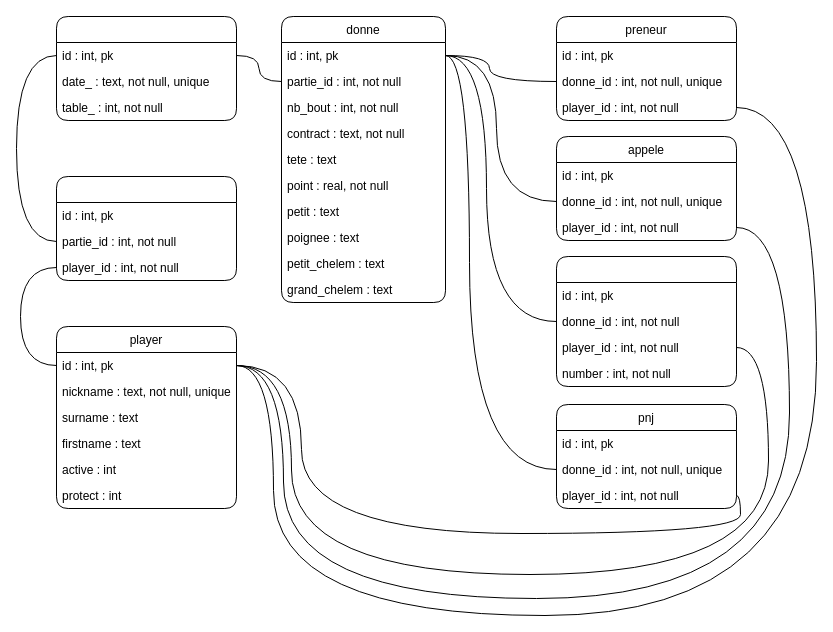
This 833x632 diagram has some shape labels left out. The box of each missing label's shape, as (x1, y1, x2, y2) in pixels:
defense: (556, 256, 736, 386)
partie: (56, 16, 236, 120)
partie_player: (56, 176, 236, 280)
